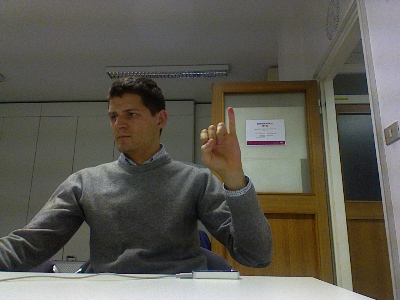小指: (199, 105, 242, 174)
